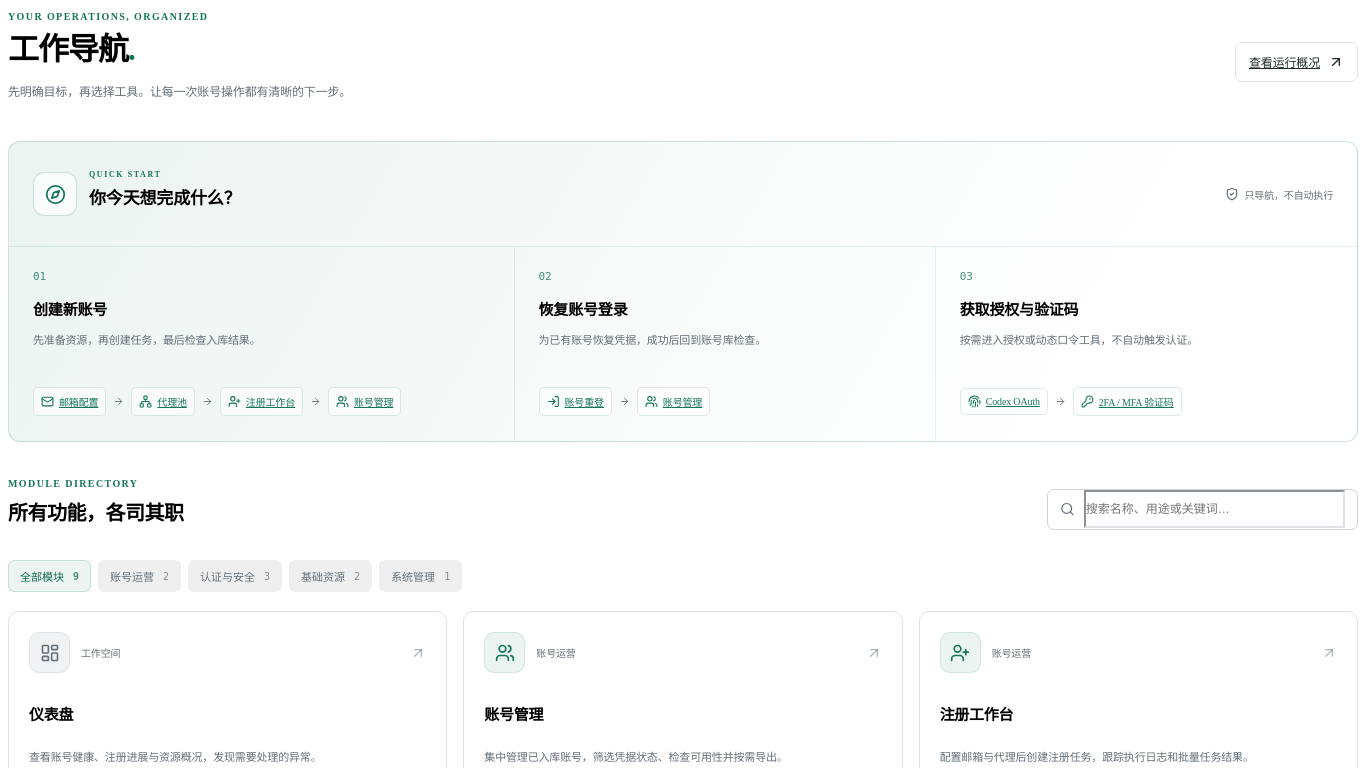
Test: directory exposes real capabilities and filters modules without auto-running operations
Expected: the heading "工作导航." is shown, [8,32,135,67]
Type "totp" into the search field named "搜索功能模块" at x=1214, y=509, box [1084,490,1345,528]
(page scrolled)
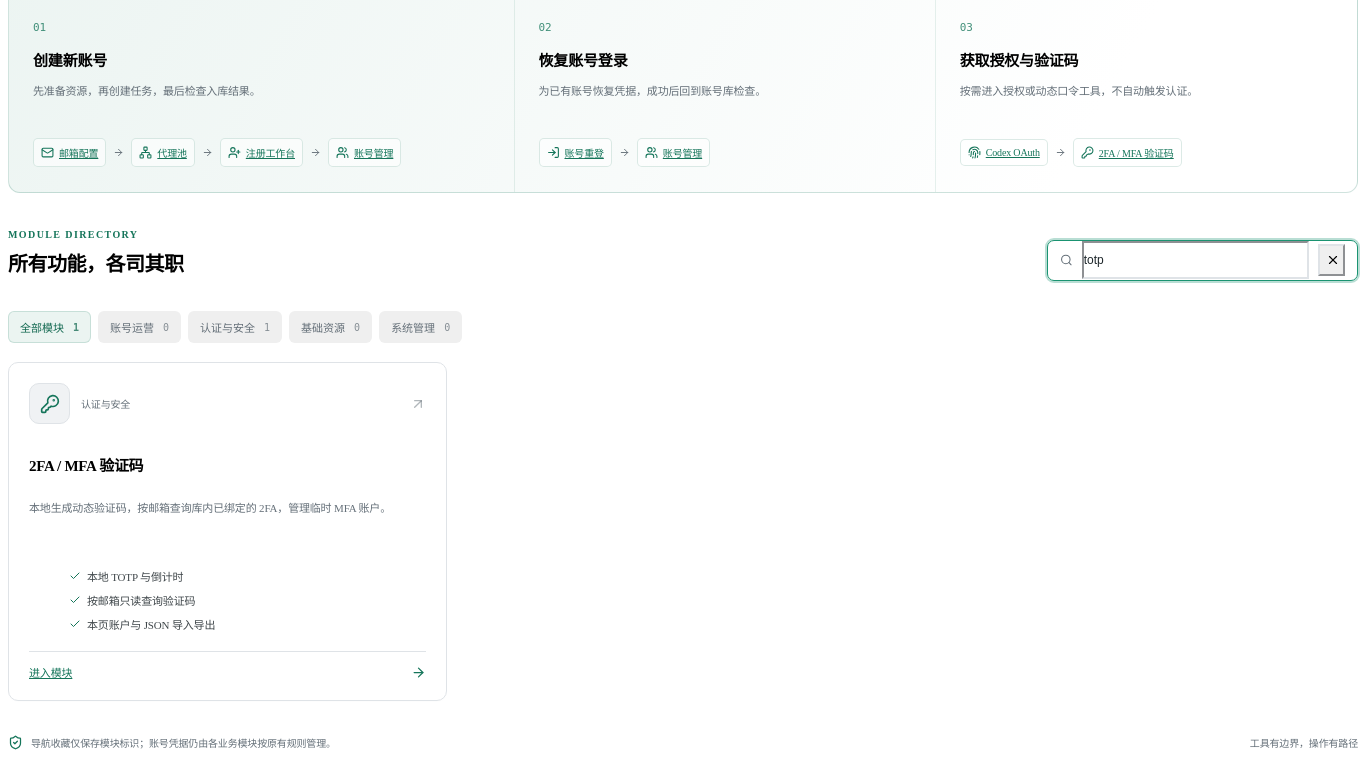
Expected: the heading "2FA / MFA 验证码" is shown, [29,458,143,474]
Click the link with aria-label "打开 2FA / MFA 验证码" at x=51, y=673, box [29,651,426,680]
(page scrolled)
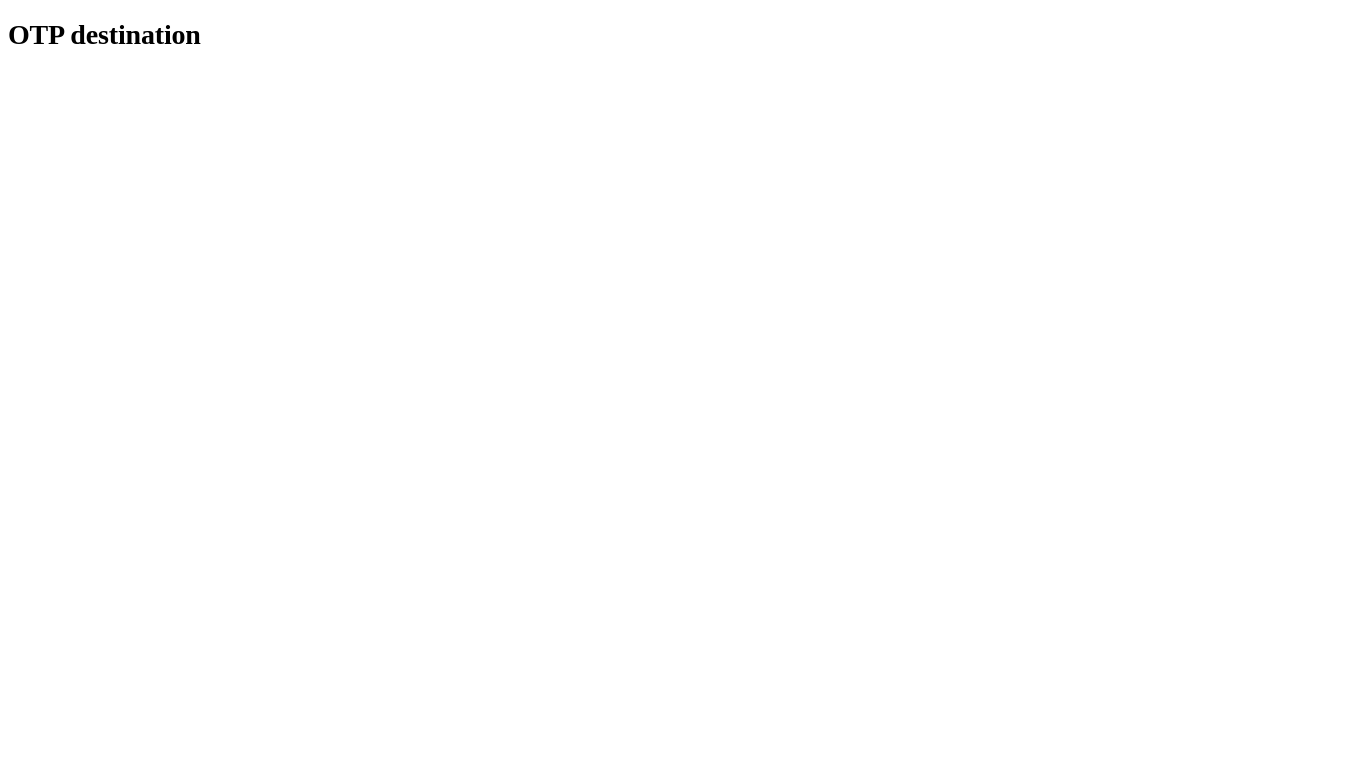
Expected: the heading "OTP destination" is shown, [8,19,201,50]
